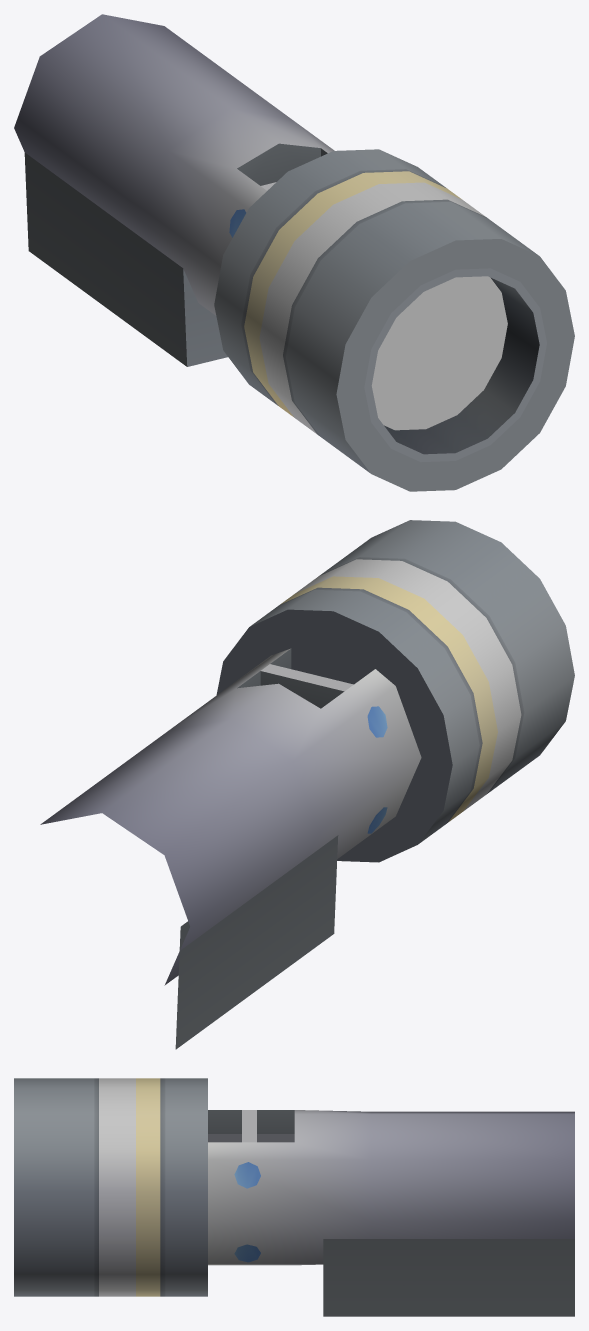
Rendered from ObservatoryTelescope.glb.
The picture shows the model from 3 angles, top to bottom: view 1: azimuth 30°, elevation 25°; view 2: azimuth 150°, elevation 25°; view 3: azimuth 270°, elevation 25°; orthographic projection. The views are drawn at different scales.
Parts seen in each view (by area): view 1: ObservatoryTelescope; view 2: ObservatoryTelescope; view 3: ObservatoryTelescope.
Boxes of the visible parts, x1=… form: ObservatoryTelescope: x1=14, y1=14, x2=574, y2=491; ObservatoryTelescope: x1=40, y1=520, x2=574, y2=1049; ObservatoryTelescope: x1=14, y1=1078, x2=574, y2=1316.
Bounding box in the file's own units: 1.83 × 1.84 × 4.7.
